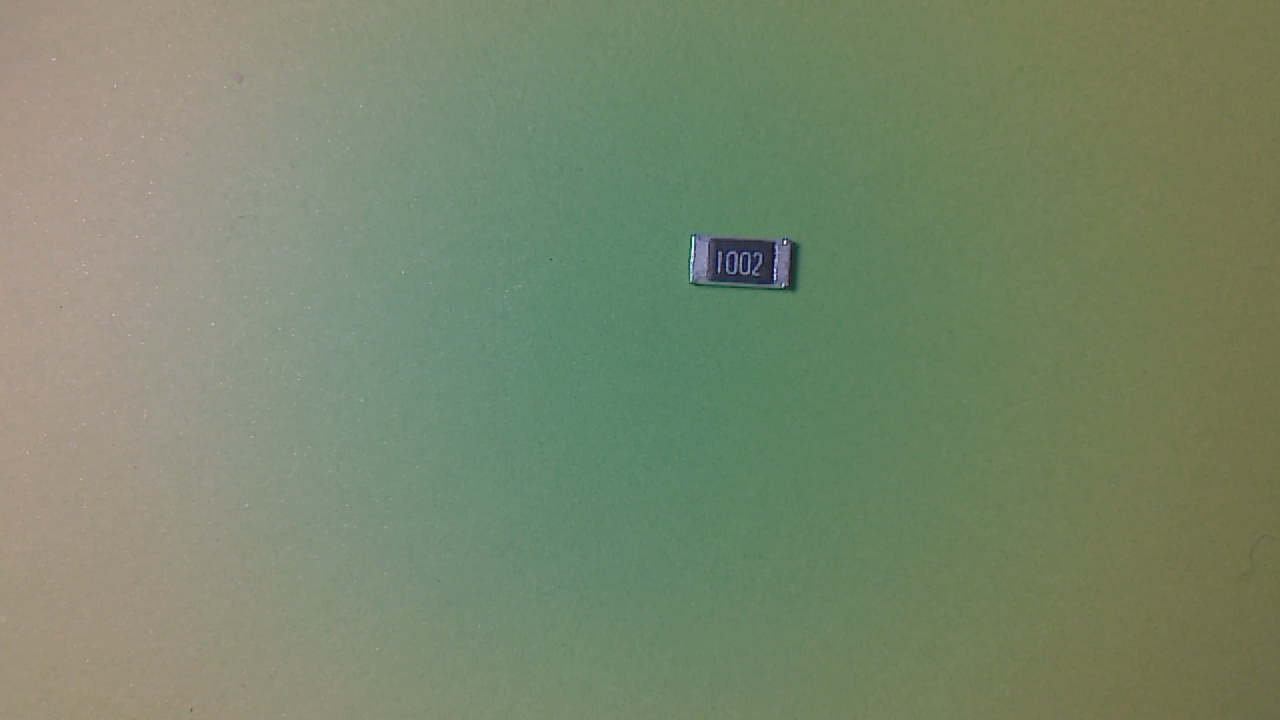Resistor: (688, 232, 810, 299)
